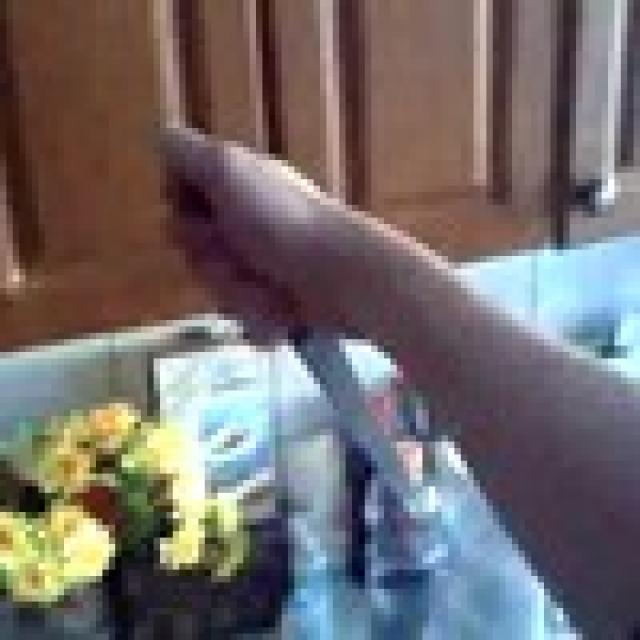Knife: (180, 167, 423, 519)
